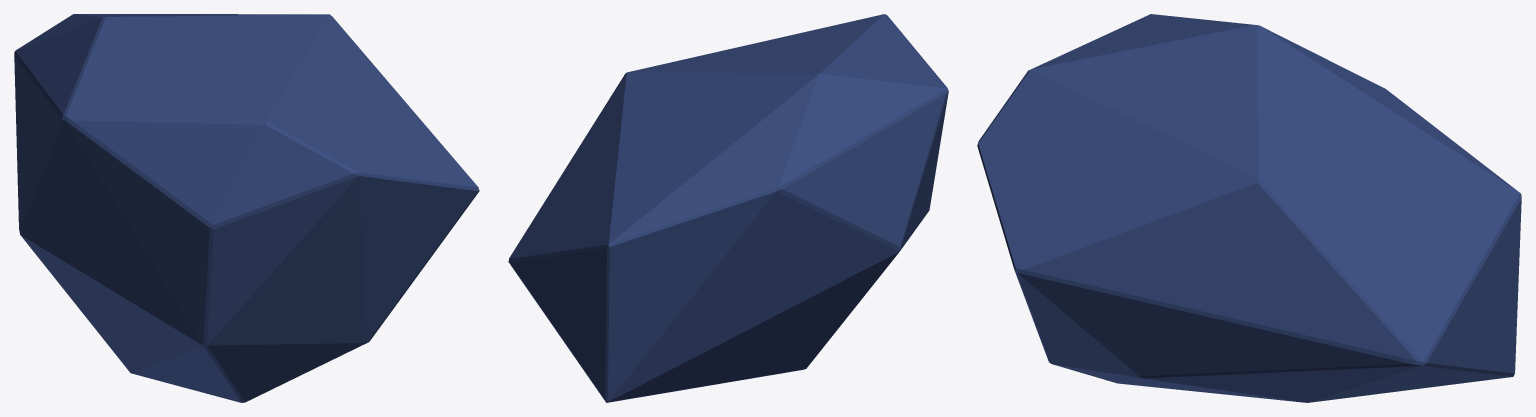
File: rock.glb
3 views of the same model, side by side, from view 1: azimuth 30°, elevation 25°; view 2: azimuth 150°, elevation 25°; view 3: azimuth 270°, elevation 25° (orthographic). The views are drawn at different scales.
Parts seen in each view (by area): view 1: Icosphère; view 2: Icosphère; view 3: Icosphère.
Boxes of the visible parts, left/top/right/bottom form: Icosphère: left=14, top=14, right=479, bottom=402; Icosphère: left=508, top=14, right=948, bottom=402; Icosphère: left=977, top=14, right=1521, bottom=402.
Bounding box in the file's own units: 2.03 × 1.85 × 2.7.
